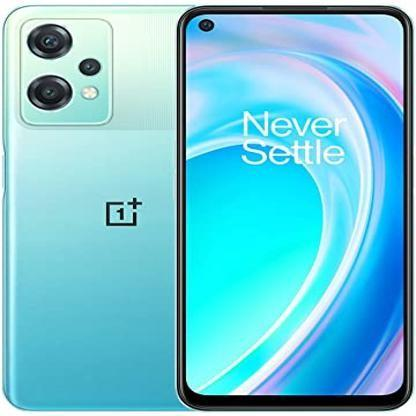not trash: (3, 2, 416, 416), (169, 6, 415, 416)
